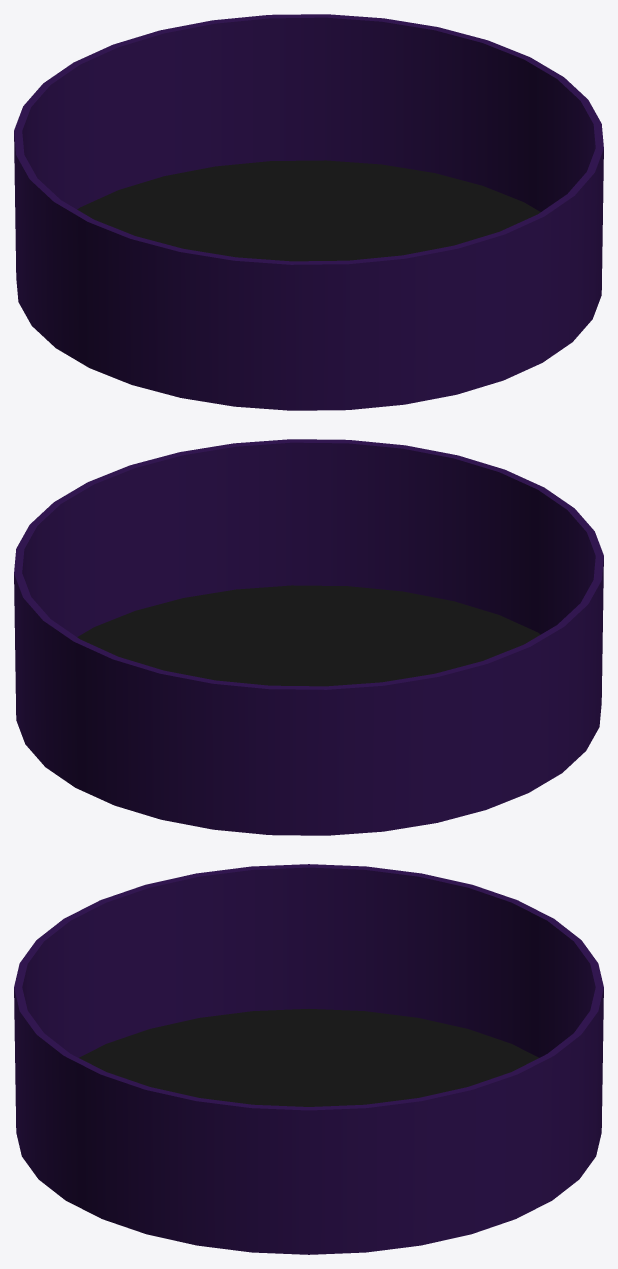
File: Room.FBX
3 views of the same model, one above another, from view 1: azimuth 30°, elevation 25°; view 2: azimuth 150°, elevation 25°; view 3: azimuth 270°, elevation 25° (orthographic).
Parts seen in each view (by area): view 1: OilTank001; view 2: OilTank001; view 3: OilTank001.
Part boxes in pixels (<box>): OilTank001: <box>14,14,603,410</box>; OilTank001: <box>14,439,603,835</box>; OilTank001: <box>14,864,603,1254</box>.
Bounding box in the file's own units: 76.48 × 21.35 × 77.4.
